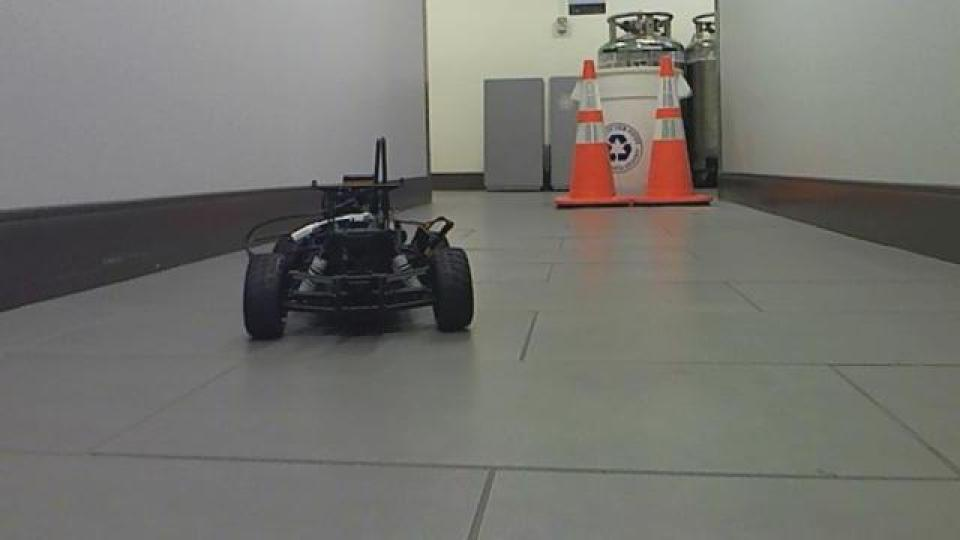car: (237, 135, 477, 342)
